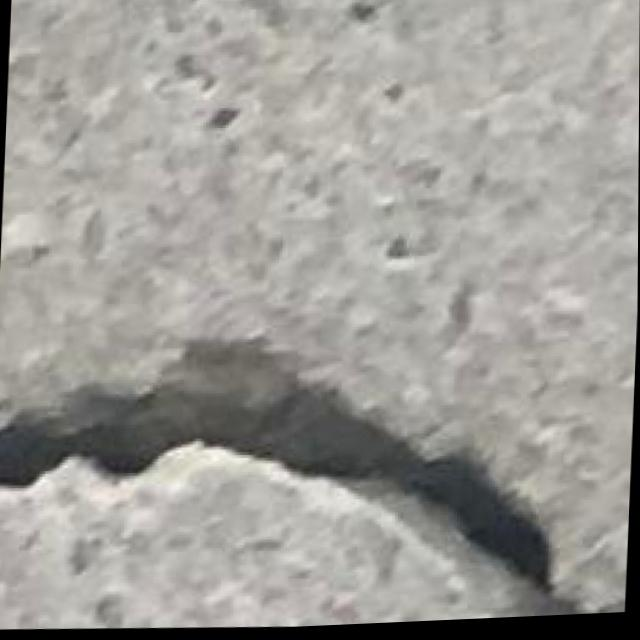Crack: (0, 287, 582, 640)
